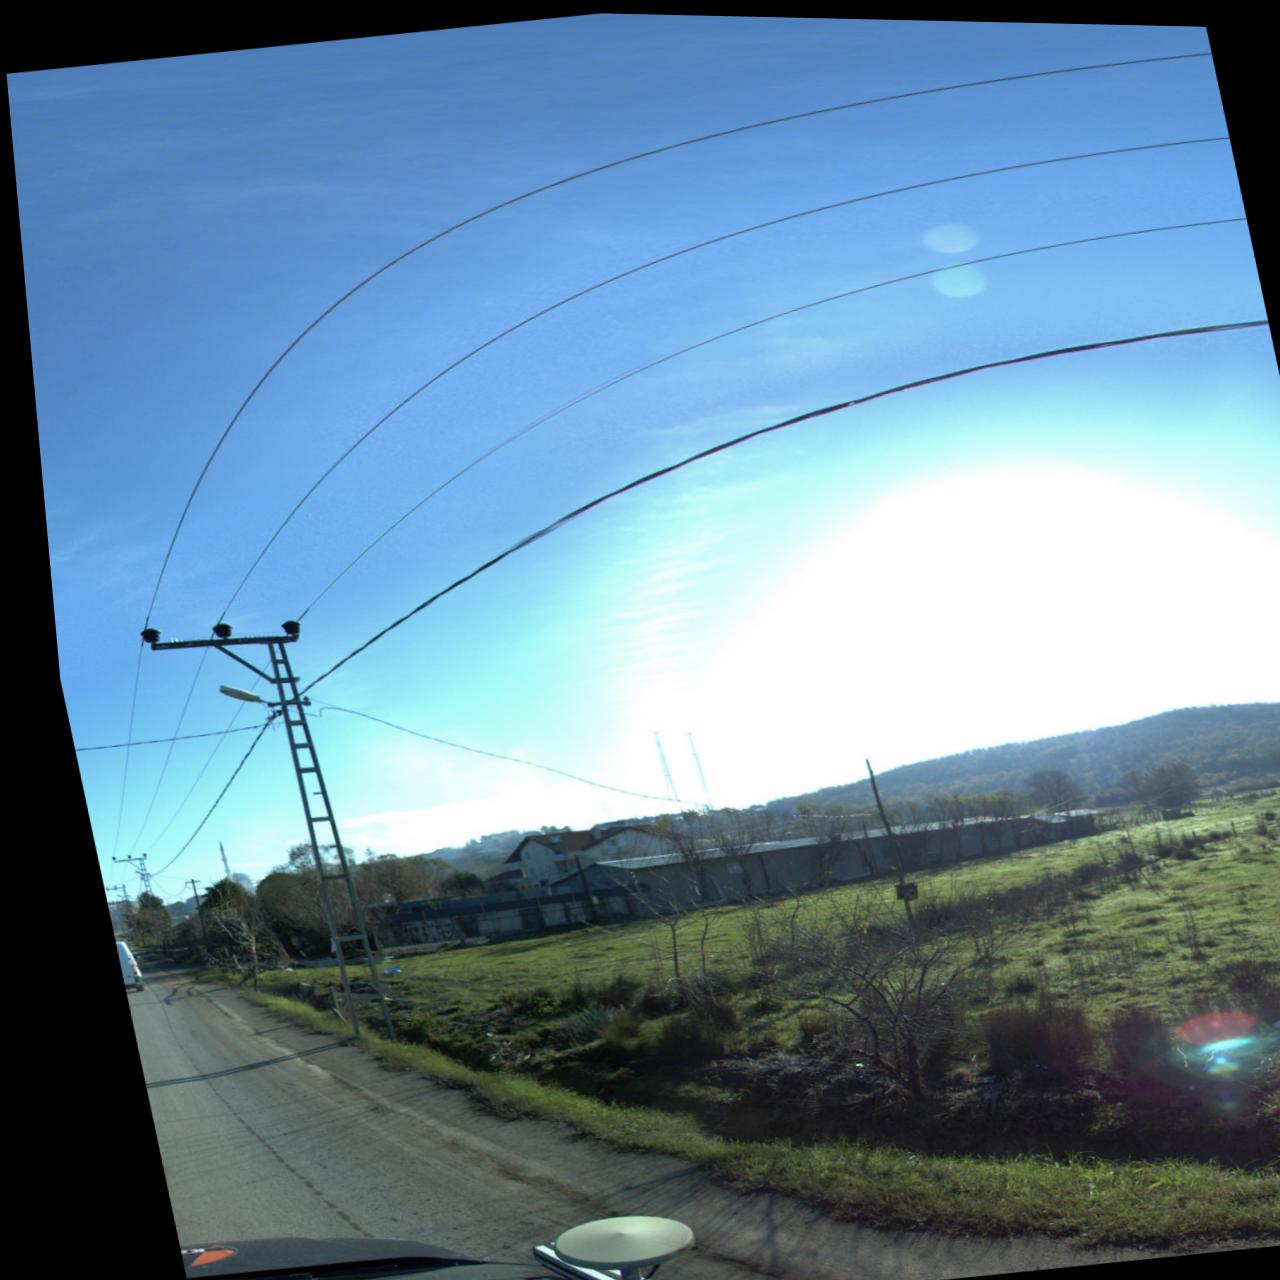Utility Pole Information Plate: (298, 869, 307, 884)
